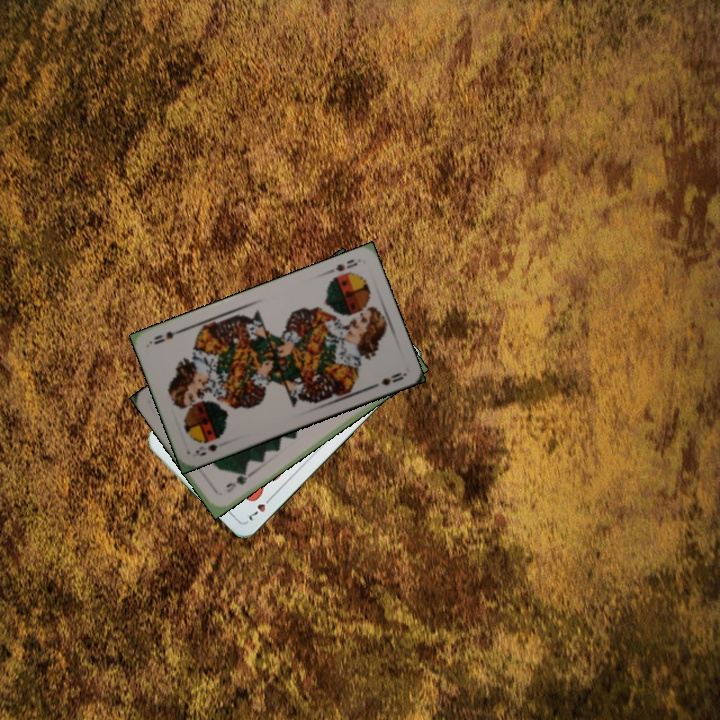G9: (222, 469, 252, 495)
H7: (244, 492, 275, 524)
SO: (323, 255, 360, 276), (191, 440, 220, 459)
